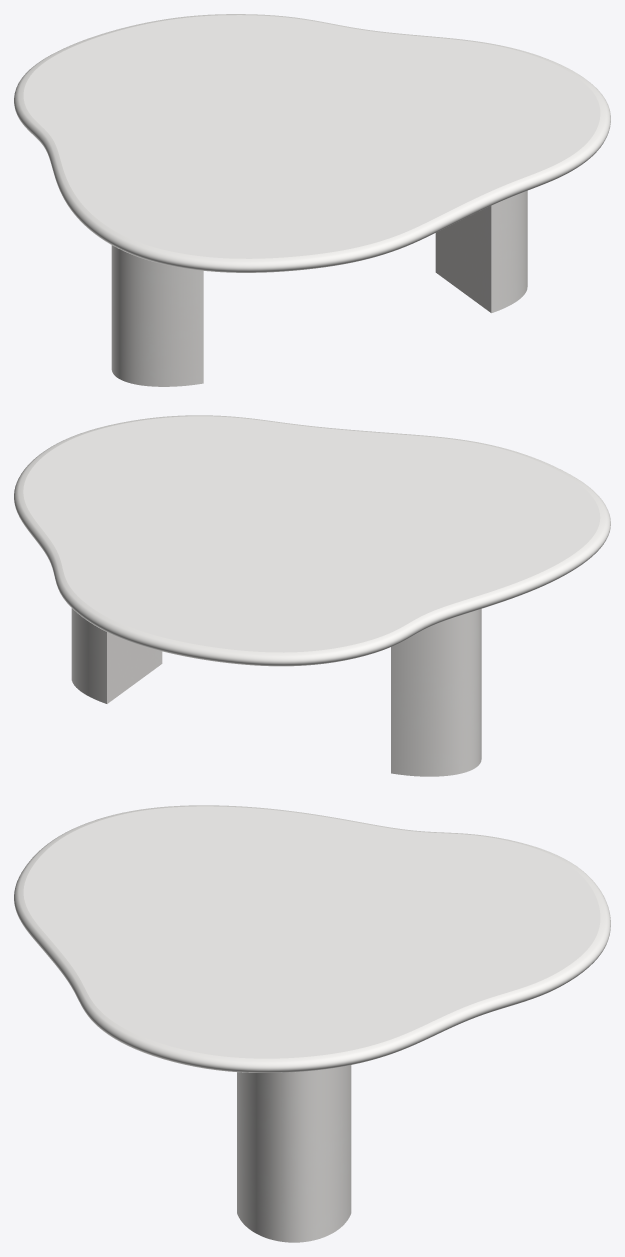
File: purewhite_topone_round_hillside.glb
3 views of the same model, one above another, from view 1: azimuth 30°, elevation 25°; view 2: azimuth 150°, elevation 25°; view 3: azimuth 270°, elevation 25° (orthographic). The views are drawn at different scales.
Visible parts, largest first — view 1: round_topone, hillside; view 2: round_topone, hillside; view 3: round_topone, hillside.
Boxes of the visible parts, x1=… form: round_topone: x1=14, y1=14, x2=610, y2=272; hillside: x1=111, y1=190, x2=527, y2=386; round_topone: x1=14, y1=415, x2=610, y2=666; hillside: x1=71, y1=608, x2=481, y2=776; round_topone: x1=14, y1=805, x2=610, y2=1072; hillside: x1=237, y1=1065, x2=351, y2=1242.
Size of the model in its own units: 6.83 by 2.5 by 6.6.
1 material, 1 textured.
